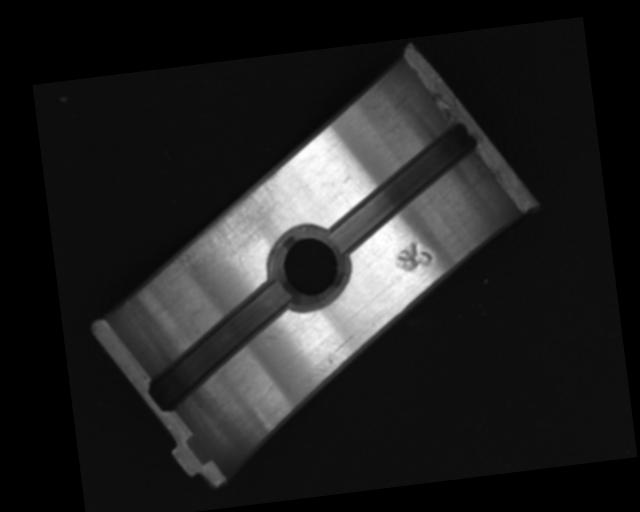bruise: (391, 235, 435, 274)
gap: (319, 121, 486, 255), (136, 278, 301, 409)
hole: (265, 221, 356, 314)
scratch: (158, 166, 294, 279)
